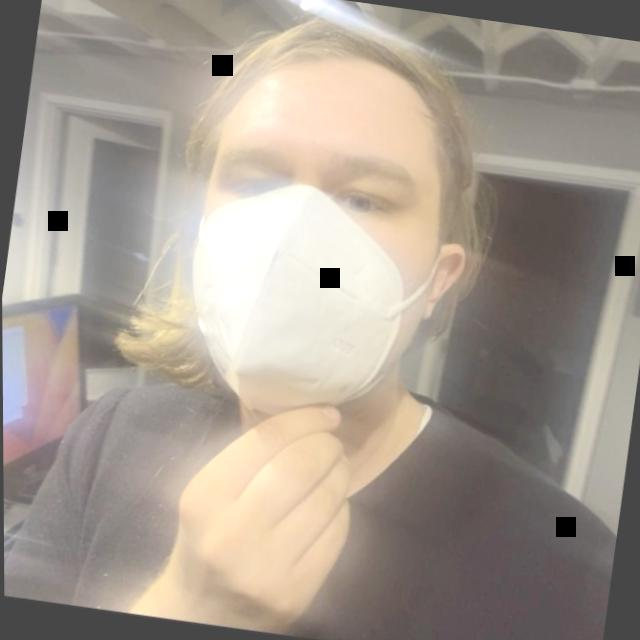Mask: (91, 0, 528, 457)
